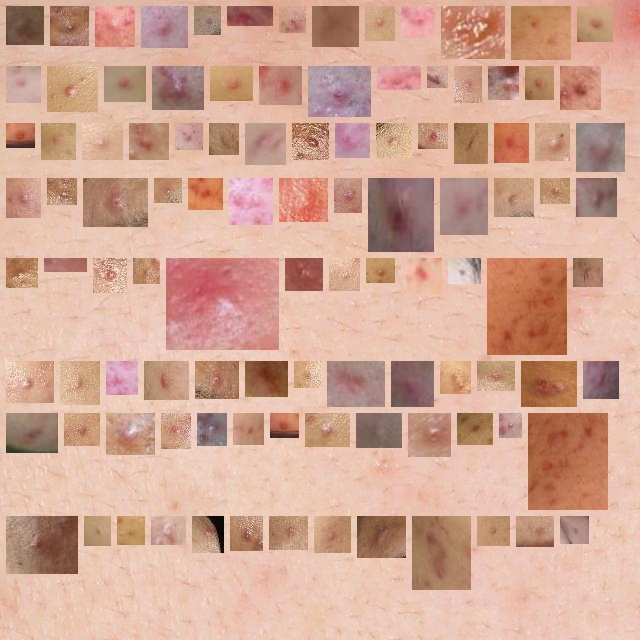papule: (174, 266, 271, 342), (495, 266, 559, 347), (536, 421, 600, 502), (376, 186, 426, 244), (420, 524, 463, 582), (14, 524, 70, 566), (449, 14, 497, 51), (519, 14, 563, 52), (316, 74, 363, 109), (91, 186, 140, 219), (448, 186, 480, 227), (335, 369, 377, 399), (529, 369, 569, 399), (584, 131, 617, 164), (55, 74, 90, 104), (160, 74, 196, 102), (287, 186, 320, 214), (237, 186, 265, 217), (14, 421, 50, 445), (114, 421, 147, 447), (365, 524, 398, 550), (14, 369, 46, 395), (399, 369, 426, 399), (149, 14, 180, 40), (320, 14, 351, 39), (416, 421, 443, 449), (568, 74, 593, 102), (68, 369, 92, 397), (152, 369, 181, 392), (253, 131, 278, 157), (267, 74, 294, 97), (203, 369, 231, 391), (103, 14, 127, 39), (584, 186, 609, 209), (409, 263, 434, 286), (364, 421, 394, 440), (58, 14, 81, 38), (502, 186, 526, 209), (253, 369, 280, 389), (90, 131, 115, 152), (313, 421, 342, 439), (112, 74, 138, 94), (218, 74, 245, 93), (14, 14, 36, 37), (137, 131, 161, 152), (502, 131, 521, 155), (14, 186, 33, 210), (462, 131, 480, 156), (300, 131, 321, 152), (322, 524, 343, 545), (591, 369, 611, 391), (385, 74, 413, 89), (543, 131, 562, 153), (277, 524, 300, 542), (585, 14, 605, 34), (14, 74, 33, 95), (49, 131, 68, 152), (384, 131, 404, 150), (293, 266, 315, 283), (343, 131, 362, 150), (101, 266, 119, 285), (72, 421, 92, 438), (200, 524, 216, 545), (235, 14, 265, 25), (524, 524, 546, 539), (238, 524, 255, 543), (465, 421, 485, 437), (485, 369, 507, 383), (196, 186, 215, 202), (409, 14, 427, 30), (114, 369, 130, 387), (169, 421, 183, 441), (496, 74, 511, 92), (373, 14, 387, 33), (337, 266, 352, 283), (448, 369, 463, 386), (462, 74, 474, 95), (159, 524, 178, 537), (241, 421, 256, 437), (205, 421, 219, 438), (485, 524, 502, 538), (533, 74, 546, 92), (342, 186, 354, 205), (217, 131, 231, 147), (14, 266, 30, 280), (581, 266, 595, 279), (456, 266, 473, 276), (125, 524, 137, 537), (568, 524, 581, 536), (55, 186, 69, 197), (92, 524, 103, 538), (202, 14, 213, 27), (426, 131, 440, 141), (548, 186, 562, 196), (183, 131, 195, 142), (287, 14, 298, 25), (302, 369, 313, 380), (14, 131, 27, 140), (374, 266, 387, 275), (278, 421, 291, 430), (141, 266, 152, 276), (162, 186, 174, 195), (507, 421, 514, 430), (435, 74, 440, 80)
